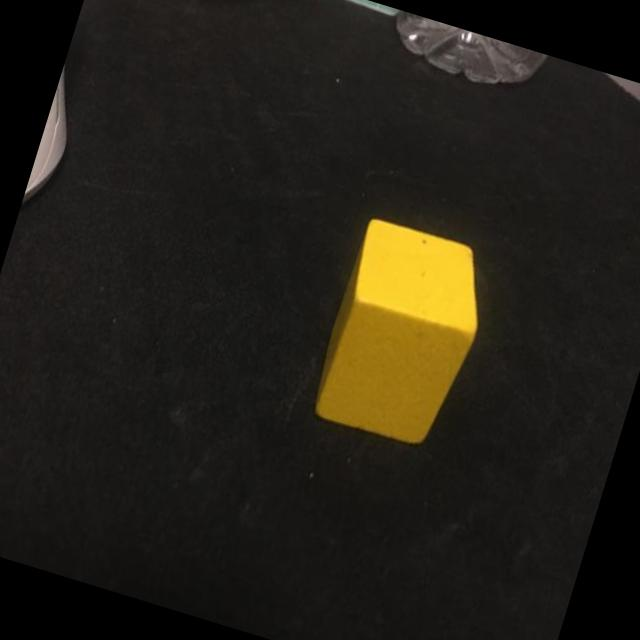yellow: (307, 216, 498, 452)
